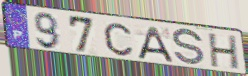7: (67, 13, 97, 54)
9: (33, 11, 62, 51)
A: (135, 25, 175, 64)
C: (102, 22, 135, 57)
H: (207, 32, 240, 72)
S: (171, 27, 207, 67)
